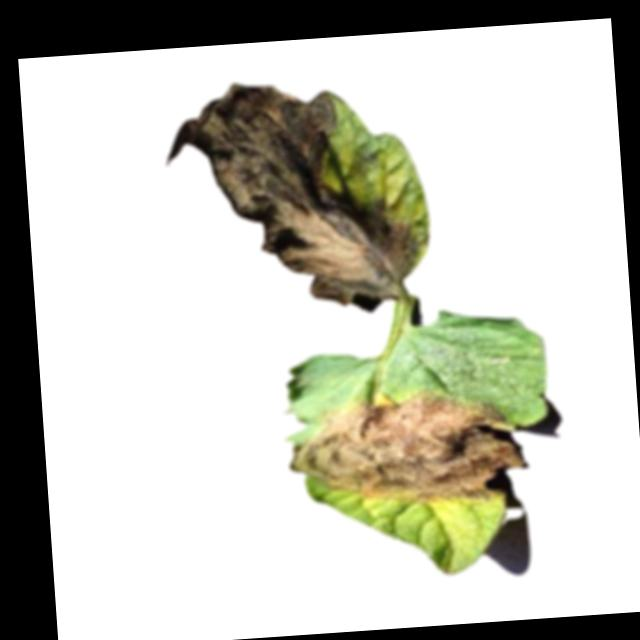Late_blight: (160, 74, 424, 325), (285, 379, 531, 516)
